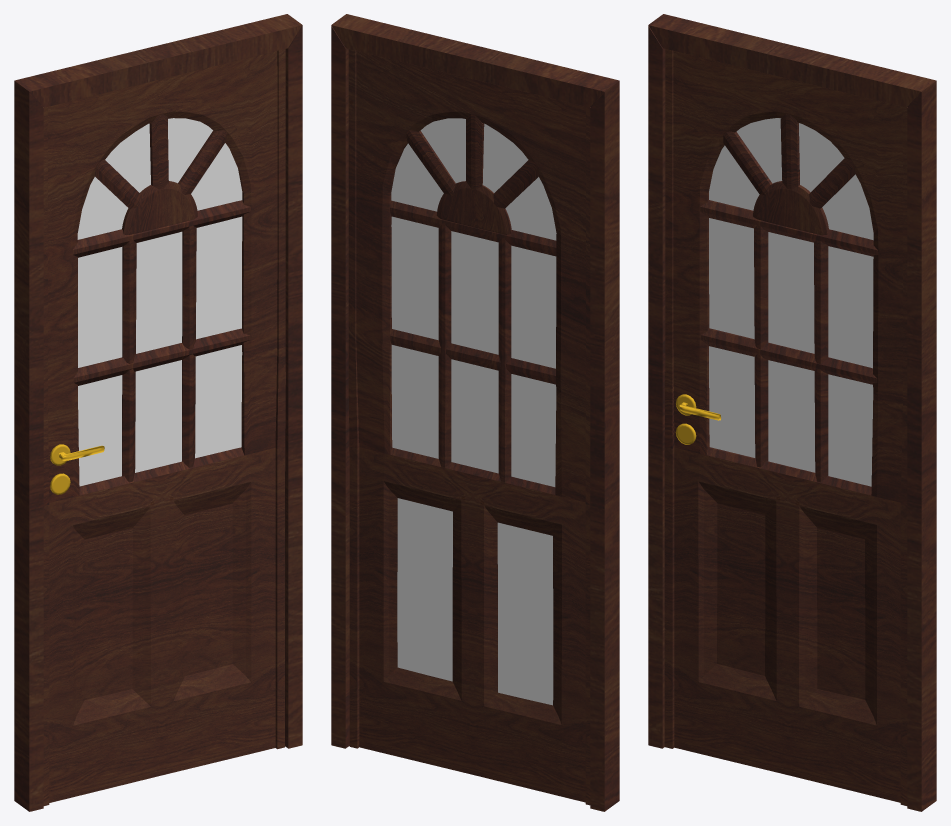
File: PUERTA59_OLD_CITY.glb
3 views of the same model, side by side, from view 1: azimuth 30°, elevation 25°; view 2: azimuth 150°, elevation 25°; view 3: azimuth 330°, elevation 25° (orthographic).
Visible parts, largest first — view 1: Puerta59_OLD CITY, Puerta59_Marco, CRISTAL_GRANDE, Puerta59_Cerradura; view 2: Puerta59_OLD CITY, CRISTAL_GRANDE, Puerta59_Marco; view 3: Puerta59_OLD CITY, Puerta59_Marco, CRISTAL_GRANDE, Puerta59_Cerradura.
Part boxes in pixels (x1,y1,x2,y2): Puerta59_OLD CITY: (43,49,285,805); Puerta59_Marco: (14,14,302,811); CRISTAL_GRANDE: (77,118,242,486); Puerta59_Cerradura: (50,444,104,494); Puerta59_OLD CITY: (348,49,590,805); CRISTAL_GRANDE: (391,118,556,705); Puerta59_Marco: (331,14,619,811); Puerta59_OLD CITY: (664,49,907,805); Puerta59_Marco: (648,14,936,811); CRISTAL_GRANDE: (709,118,873,486); Puerta59_Cerradura: (675,394,721,444).
Bounding box in the file's own units: 769 × 1936 × 85.
Materials: 6 (4 with a texture image).
